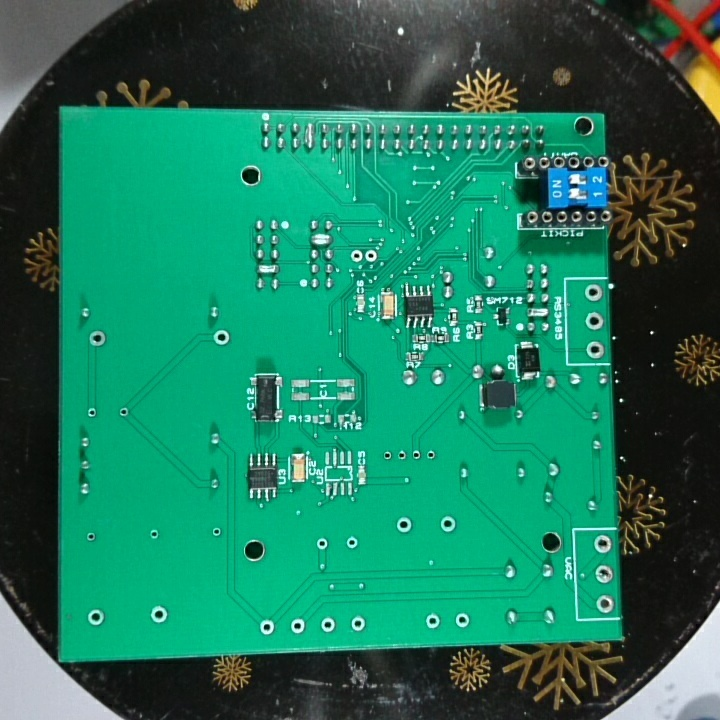F: (584, 307, 605, 335), (593, 563, 616, 588), (593, 595, 619, 617), (210, 326, 233, 349), (84, 607, 108, 629), (288, 616, 309, 640), (593, 532, 612, 558), (439, 515, 461, 537), (87, 329, 111, 349), (586, 337, 605, 362), (582, 282, 603, 304), (393, 515, 416, 535), (148, 603, 167, 626), (423, 610, 442, 632), (451, 610, 472, 629), (350, 614, 368, 636), (319, 615, 339, 633), (259, 617, 277, 637), (84, 406, 104, 423), (422, 446, 437, 468), (342, 533, 361, 550), (407, 446, 423, 466), (144, 528, 164, 543), (209, 523, 224, 543), (364, 246, 379, 266), (393, 447, 407, 466), (348, 248, 364, 264), (314, 535, 331, 550), (380, 449, 395, 465), (84, 529, 98, 546), (116, 403, 130, 420)
P: (524, 303, 553, 320), (308, 230, 332, 249), (254, 263, 284, 278), (302, 121, 316, 152)
